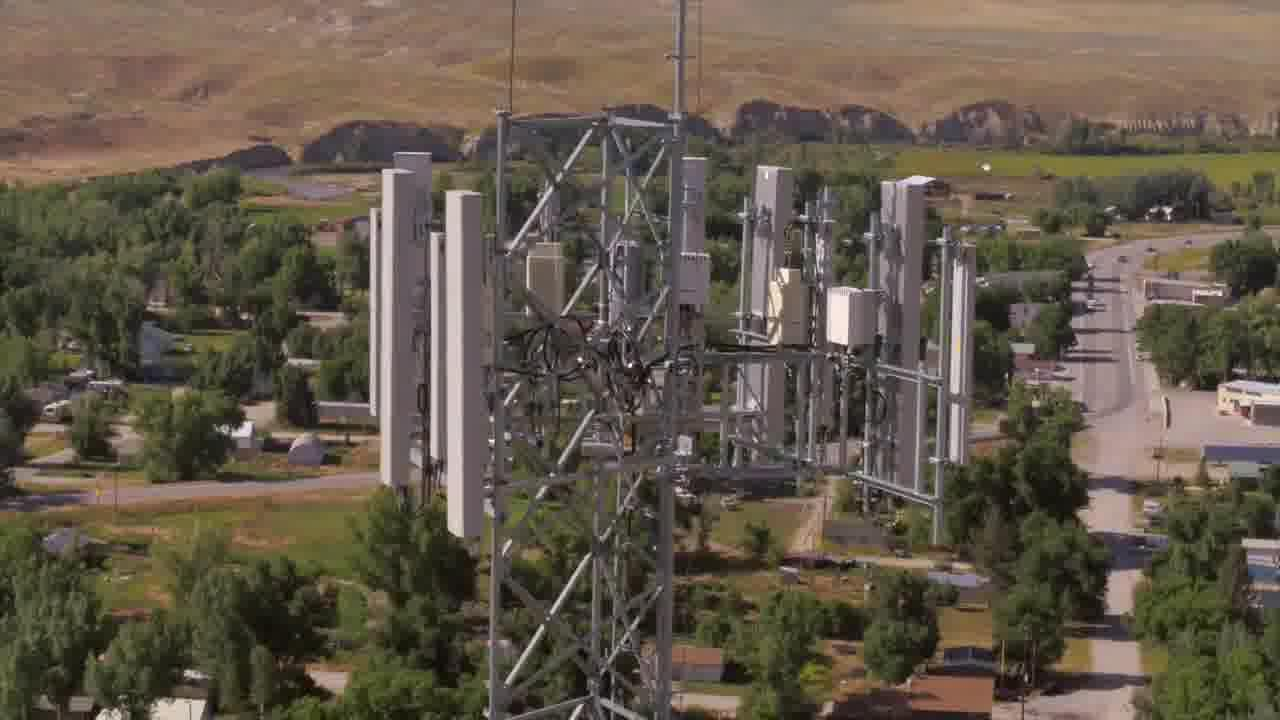antenna: (374, 159, 437, 510), (439, 186, 496, 549), (884, 178, 947, 504), (742, 142, 800, 467), (672, 149, 721, 406), (949, 241, 978, 474), (364, 202, 388, 421), (523, 230, 569, 320)
